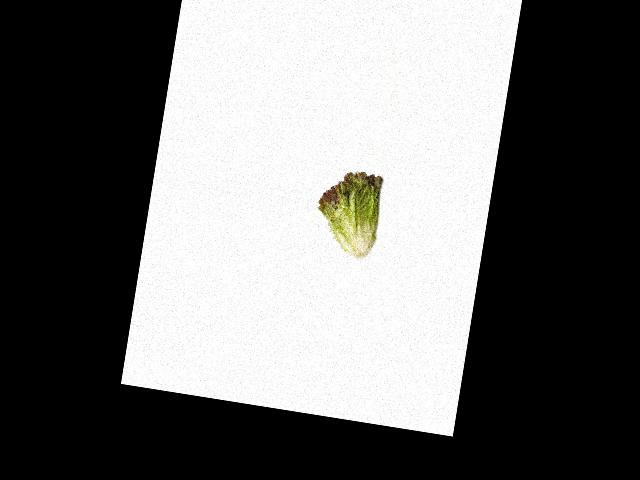lettuce: (312, 164, 384, 259)
